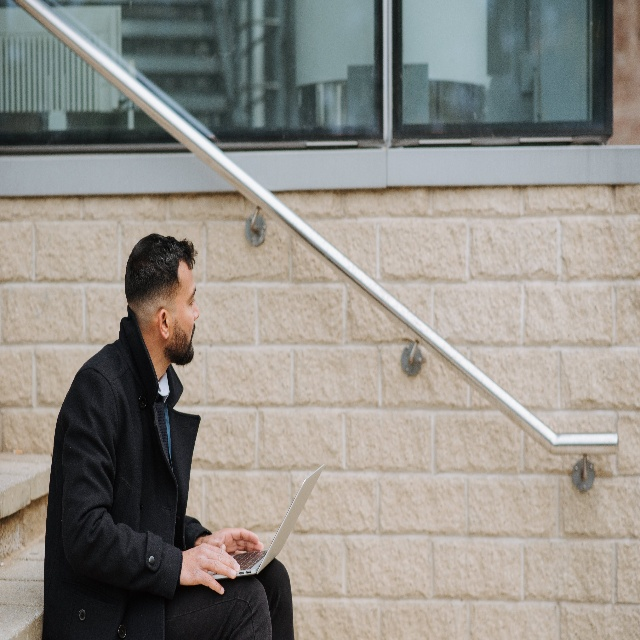Sin_guantes: (180, 542, 240, 597), (204, 524, 263, 558)
